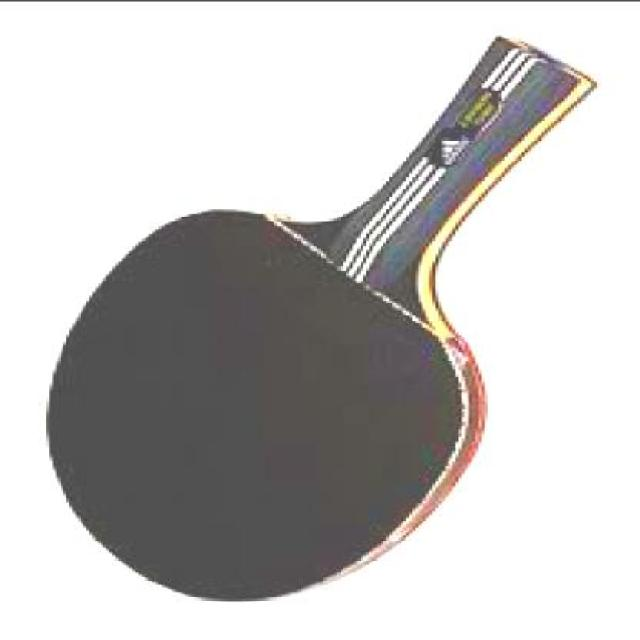table_tennis_racket: (40, 195, 486, 608)
